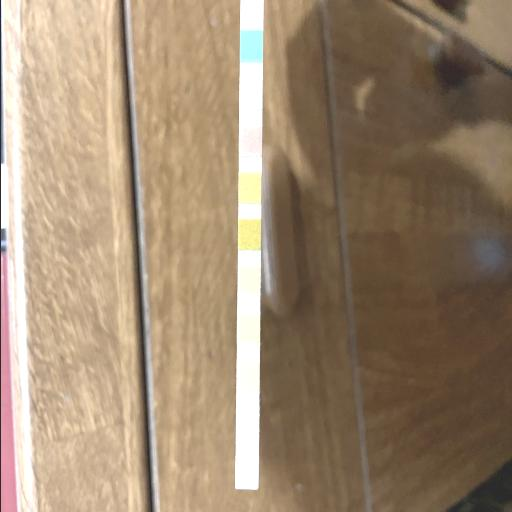Bilirubin: (239, 79, 261, 109)
Blood: (238, 220, 260, 250)
Glucose: (240, 31, 262, 61)
Ketone: (238, 126, 260, 156)
Leukocytes: (235, 457, 257, 487)
Nitrite: (236, 408, 258, 438)
Protein: (236, 314, 258, 344)
SpGravity: (238, 173, 260, 203)
Urobilinogen: (236, 360, 258, 390)
pH: (238, 266, 260, 296)
strip: (234, 1, 262, 490)
